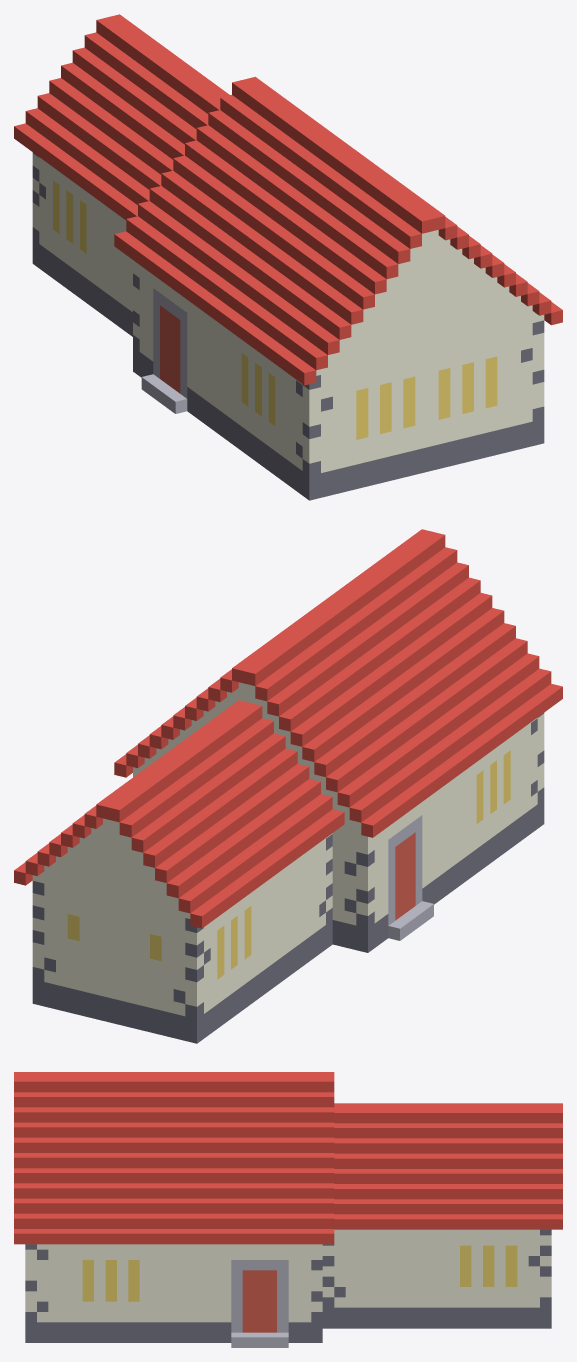
Rendered from Casa1.glb.
The picture shows the model from 3 angles, top to bottom: view 1: azimuth 30°, elevation 25°; view 2: azimuth 150°, elevation 25°; view 3: azimuth 270°, elevation 25°; orthographic projection. The views are drawn at different scales.
Parts seen in each view (by area): view 1: Build- 6; view 2: Build- 6; view 3: Build- 6.
Part boxes in pixels (x1,y1,x2,y2): Build- 6: [14, 14, 562, 500]; Build- 6: [14, 529, 562, 1043]; Build- 6: [14, 1072, 562, 1347].
Bounding box in the file's own units: 2.2 × 2.1 × 4.8.
Materials: 1 (1 with a texture image).
